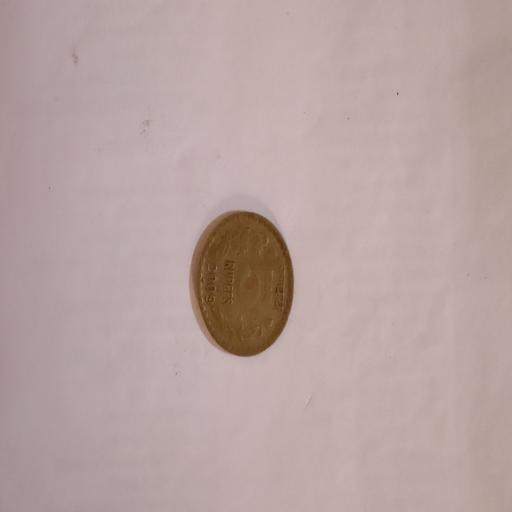rupee5: (191, 211, 292, 358)
